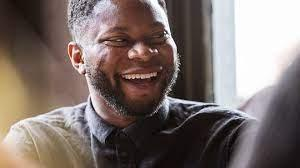Persons: (61, 0, 195, 124)
